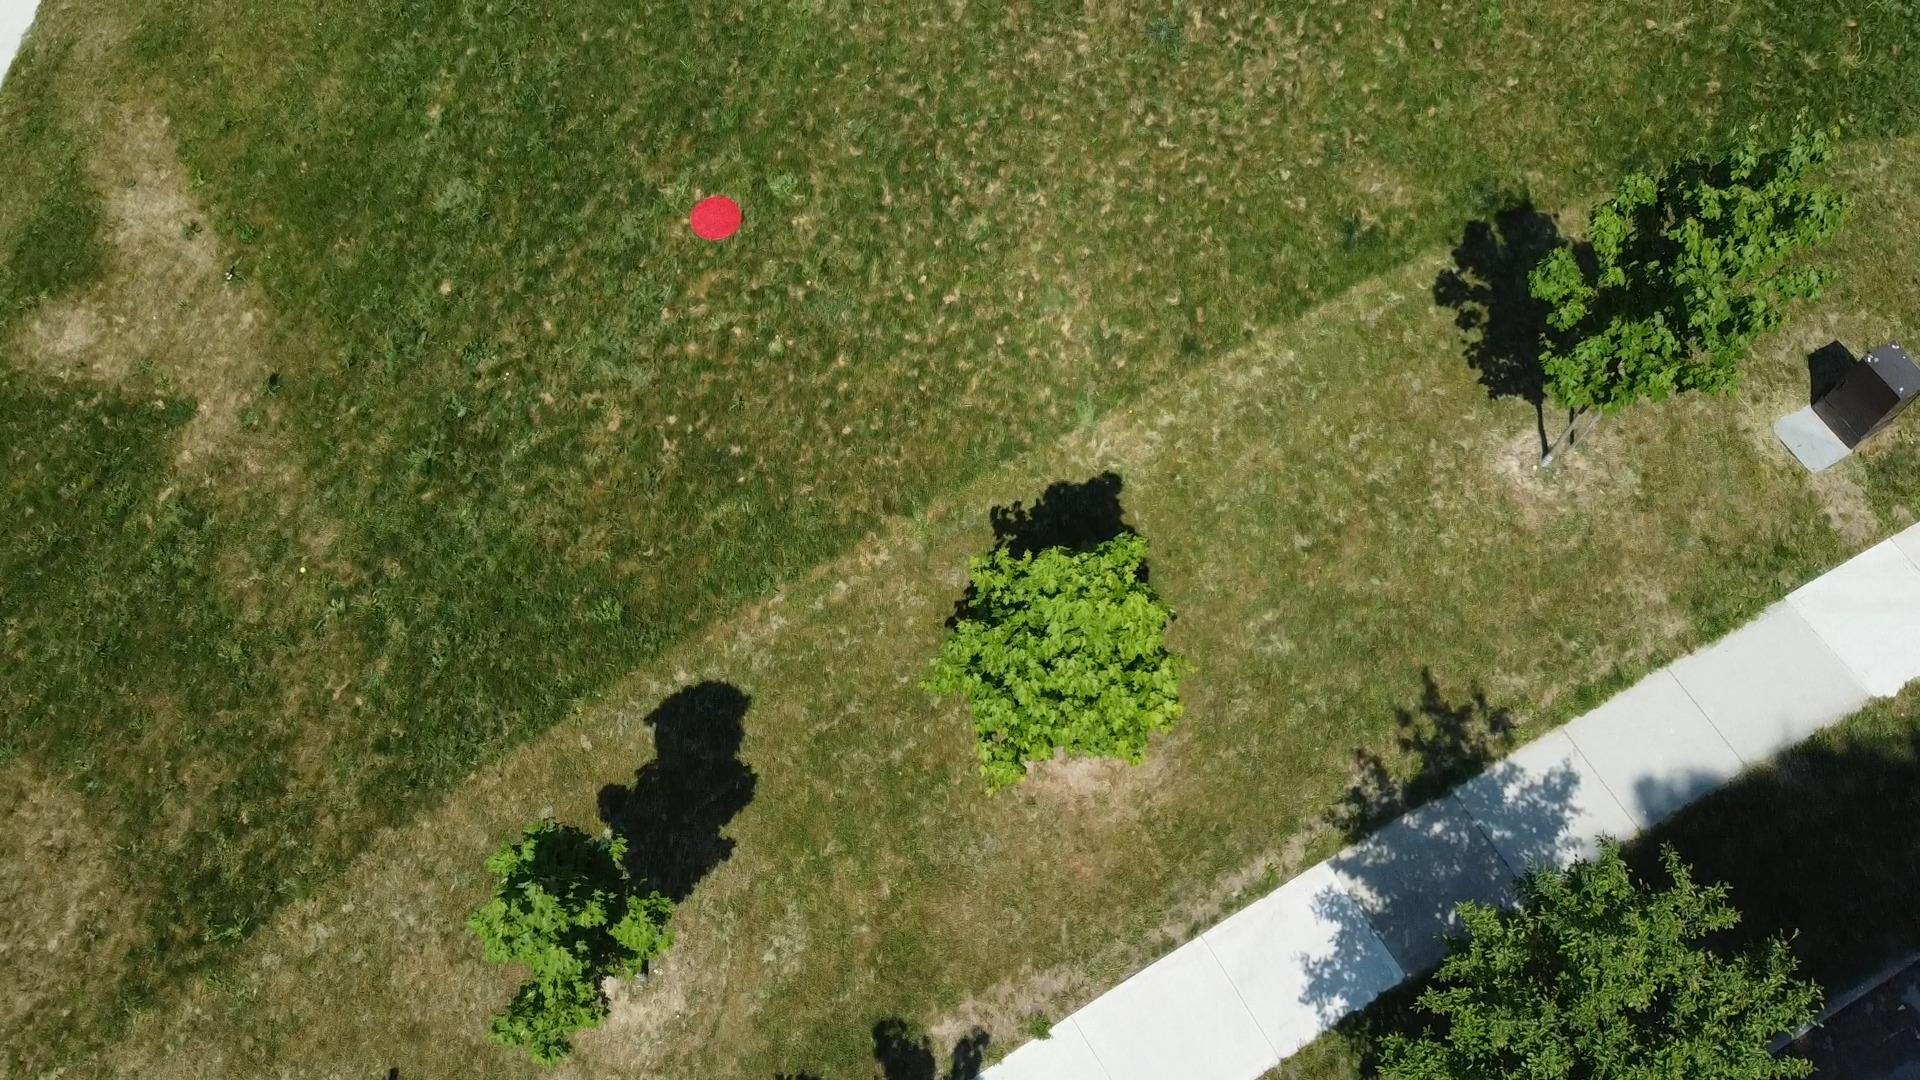Red: (686, 193, 745, 244)
